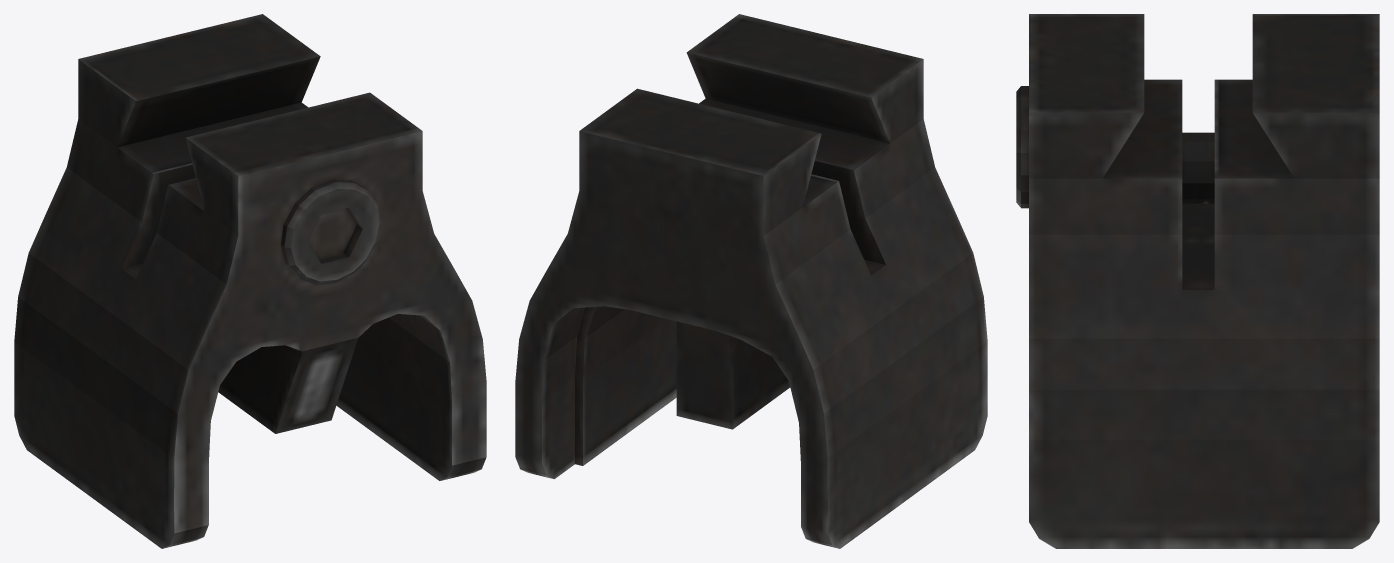
3 views of the same model, side by side, from view 1: azimuth 30°, elevation 25°; view 2: azimuth 150°, elevation 25°; view 3: azimuth 270°, elevation 25° (orthographic). The views are drawn at different scales.
Visible parts, largest first — view 1: TW_5aafa49ae5b5b00015042a58_PZ_Import; view 2: TW_5aafa49ae5b5b00015042a58_PZ_Import; view 3: TW_5aafa49ae5b5b00015042a58_PZ_Import.
Boxes of the visible parts, box(x1,y1,x2,y2) form: TW_5aafa49ae5b5b00015042a58_PZ_Import: box(14, 14, 486, 548); TW_5aafa49ae5b5b00015042a58_PZ_Import: box(515, 14, 987, 548); TW_5aafa49ae5b5b00015042a58_PZ_Import: box(1016, 14, 1379, 548).
Size of the model in its own units: 0.0112 by 0.0103 by 0.0126.
1 material, 1 textured.
